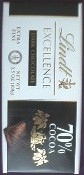grozi_65: (0, 0, 84, 175)
